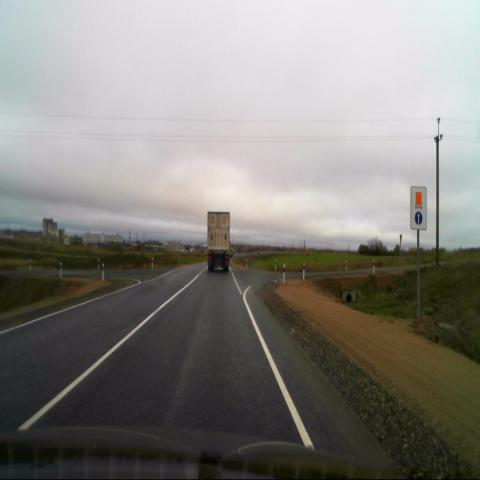4_8_2: (410, 186, 426, 230)
